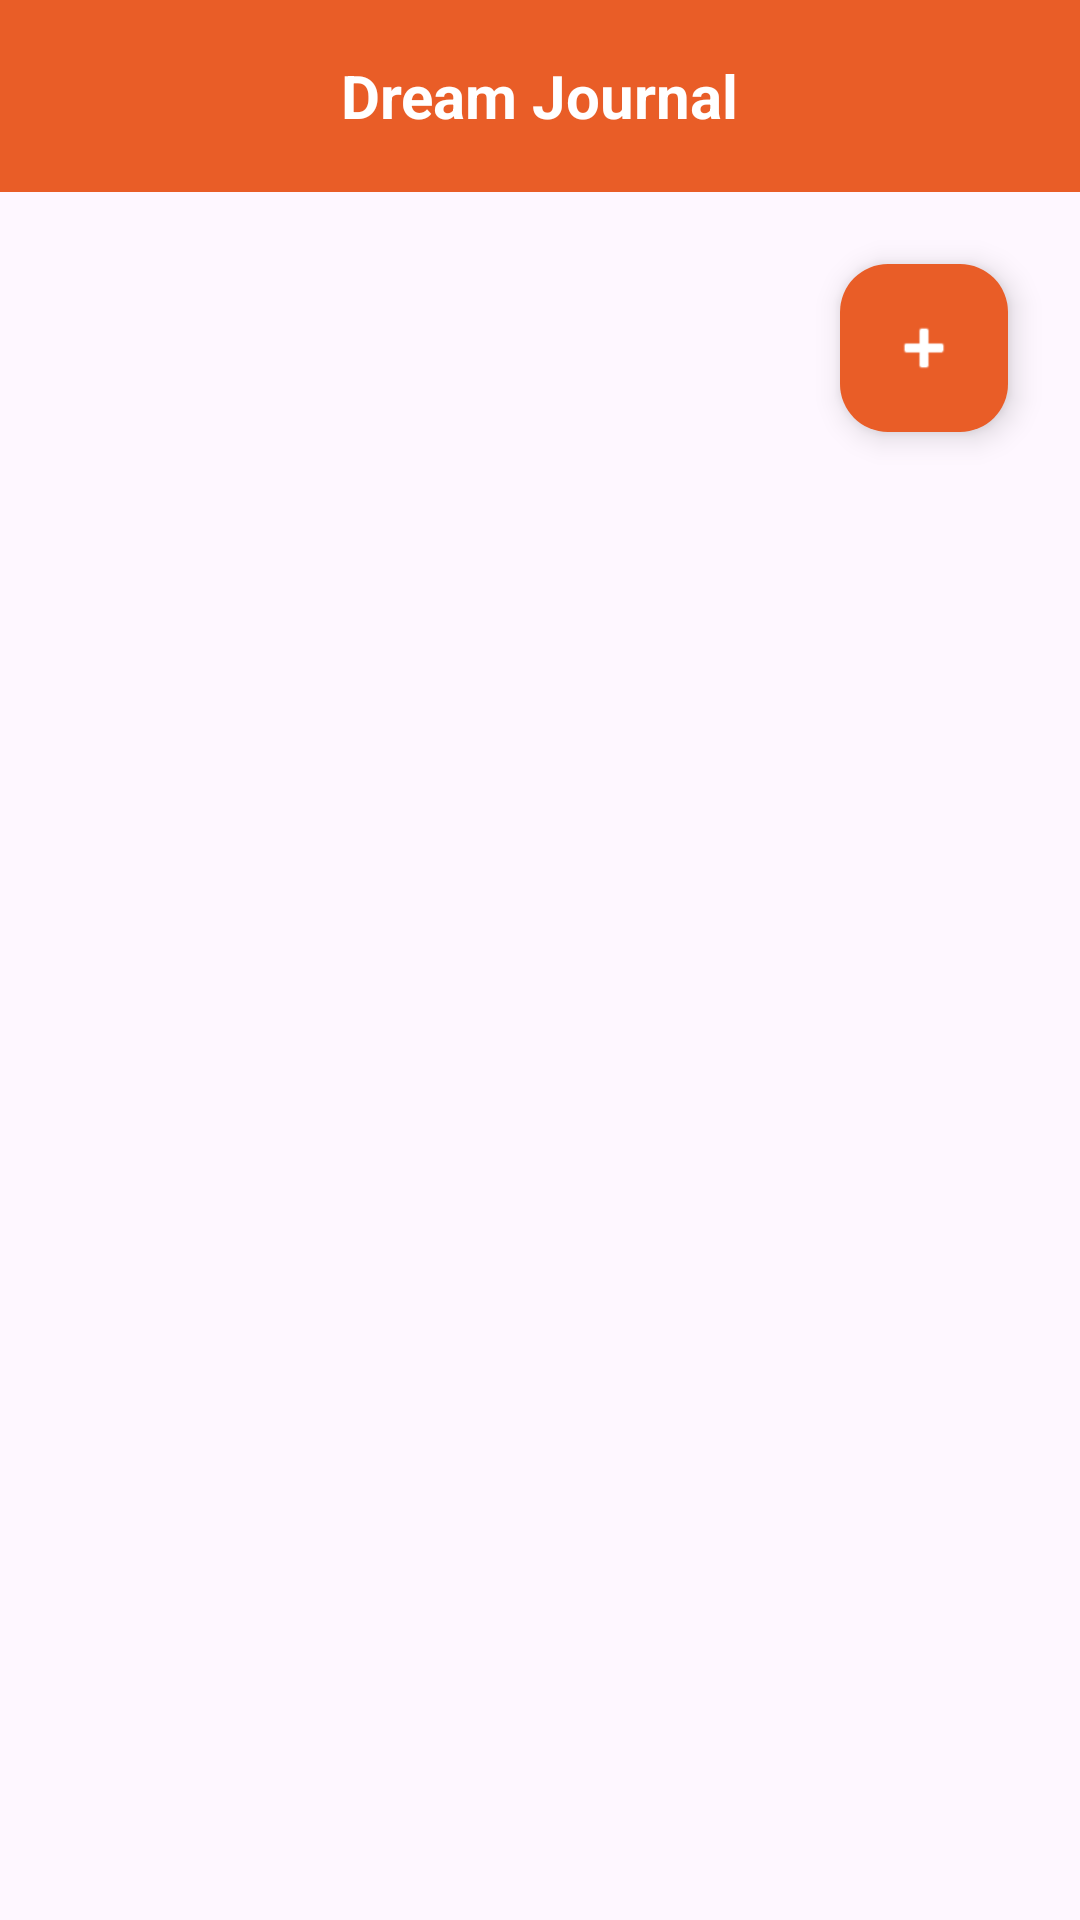

Named icons in this screenshot (1080 x 1920) and their bounding boxes, (left=x1, top=y1, right=x2, bottom=y2):
Add New Dream: (left=840, top=264, right=1008, bottom=432)
